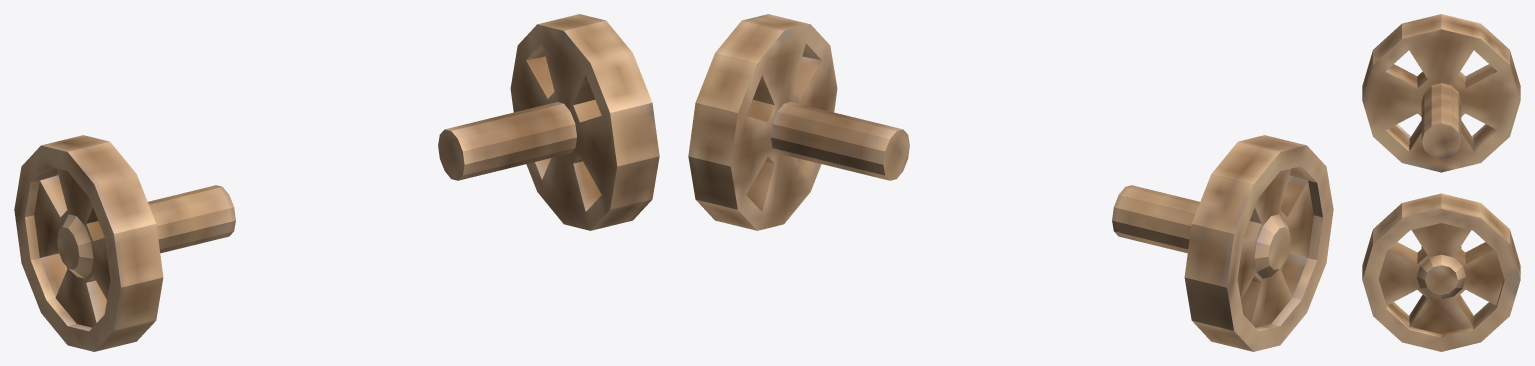
File: Truck_v006_wheelback.obj
3 renders of one model, left to right at view 1: azimuth 30°, elevation 25°; view 2: azimuth 150°, elevation 25°; view 3: azimuth 270°, elevation 25°, orthographic. The views are drawn at different scales.
Visible parts, largest first — view 1: Truck_wheelBack; view 2: Truck_wheelBack; view 3: Truck_wheelBack.
Part boxes in pixels (x1,y1,x2,y2): Truck_wheelBack: (14, 14, 659, 351); Truck_wheelBack: (688, 14, 1333, 351); Truck_wheelBack: (1362, 14, 1520, 351).
Size of the model in its own units: 1.95 by 0.6681 by 0.6681.
